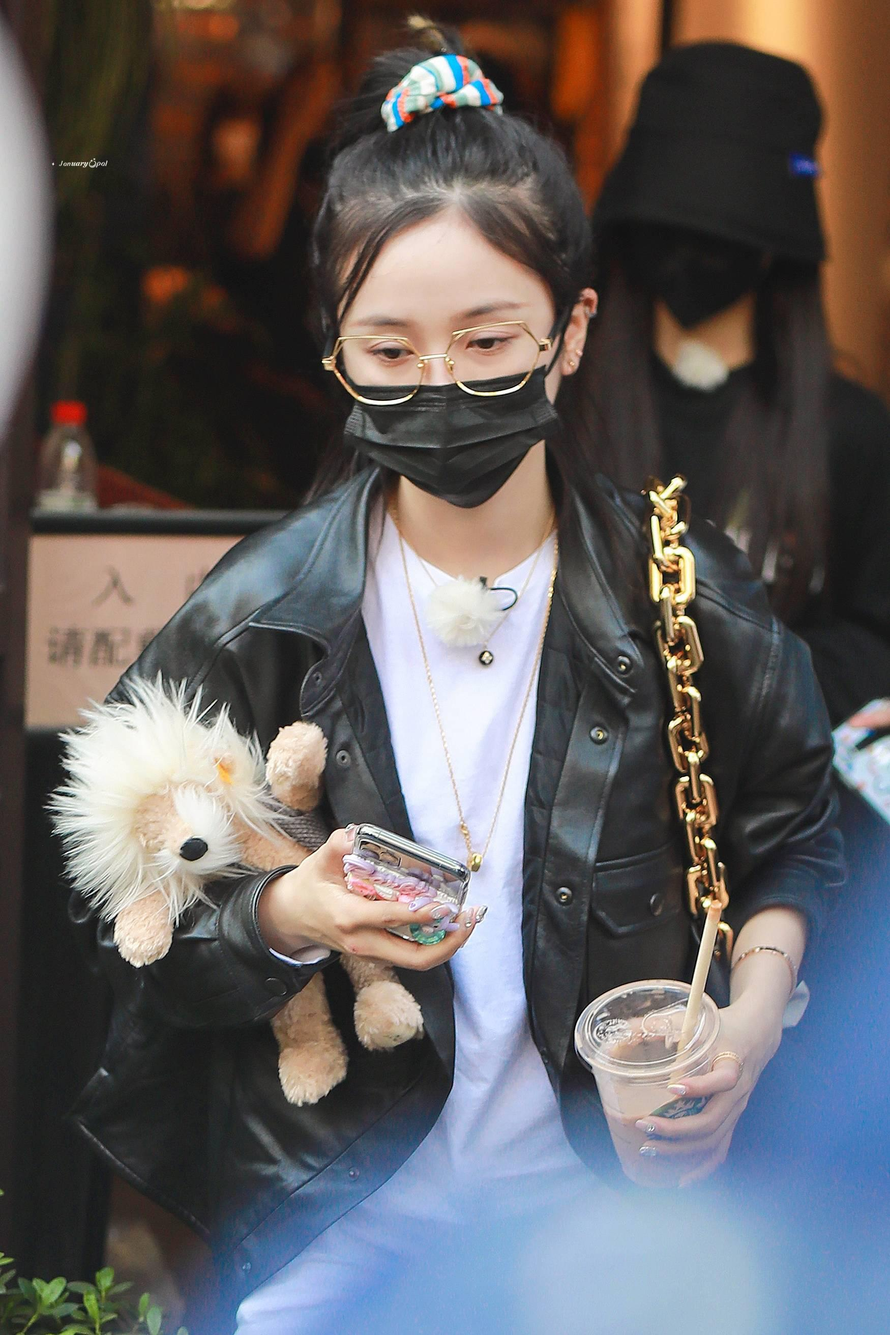OK: (339, 269, 559, 508), (642, 163, 777, 330)
